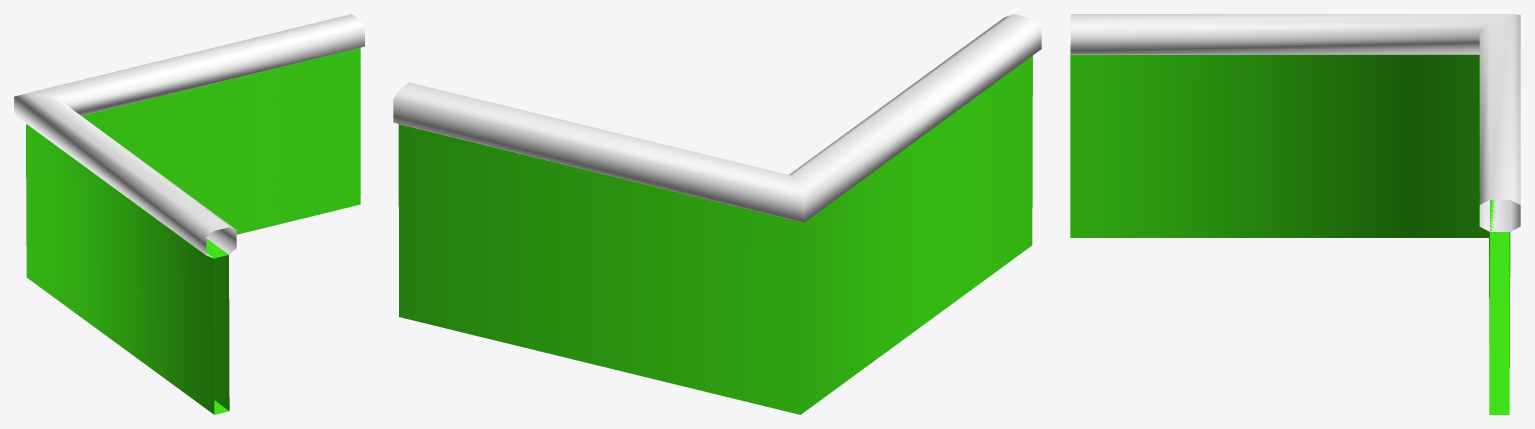
Rendered from Glass_Barrier_Corner.fbx.
The picture shows the model from 3 angles, left to right: view 1: azimuth 30°, elevation 25°; view 2: azimuth 150°, elevation 25°; view 3: azimuth 270°, elevation 25°; orthographic projection. The views are drawn at different scales.
Parts seen in each view (by area): view 1: Barrier_GlassCorner_02; view 2: Barrier_GlassCorner_02; view 3: Barrier_GlassCorner_02.
Boxes of the visible parts, box(x1,y1,x2,y2) form: Barrier_GlassCorner_02: box(14, 14, 364, 414); Barrier_GlassCorner_02: box(393, 14, 1041, 414); Barrier_GlassCorner_02: box(1070, 14, 1520, 414).
Bounding box in the file's own units: 8.19 × 4.32 × 8.2.
